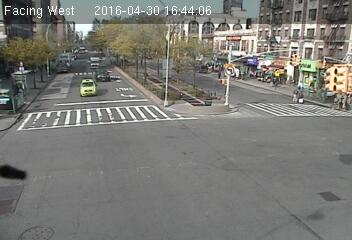neg: (319, 62, 337, 87), (40, 19, 56, 41), (188, 64, 203, 83), (141, 11, 154, 29), (83, 86, 95, 102), (101, 32, 112, 47), (290, 51, 299, 63), (240, 35, 249, 46), (212, 21, 220, 32)
pos: (288, 83, 306, 107), (212, 67, 223, 81)
